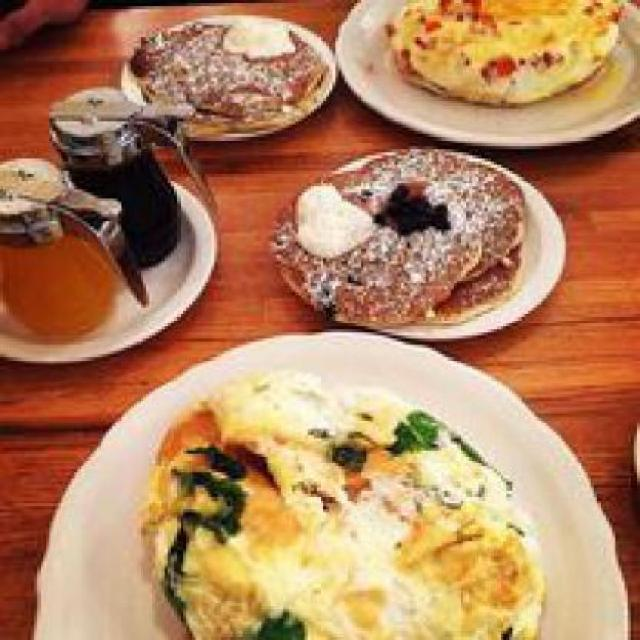ice cream: (289, 178, 376, 255), (220, 12, 292, 56)
omelette: (136, 358, 544, 636)
pancakes: (267, 140, 525, 335), (127, 15, 330, 134)
